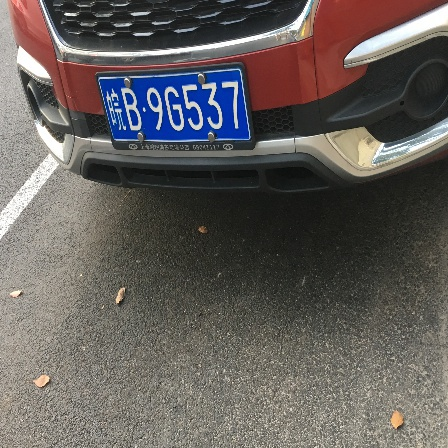plate: (94, 70, 254, 147)
